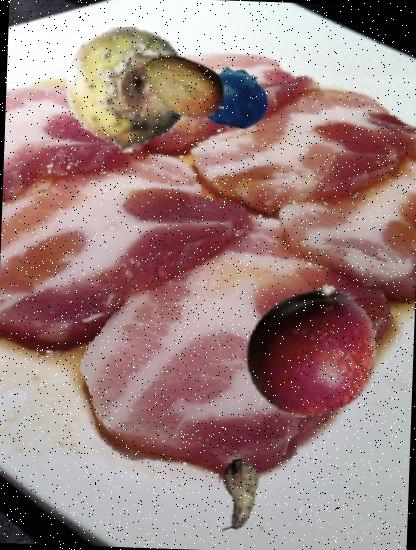Cactus: (61, 25, 195, 159)
Huckleberry: (198, 62, 271, 135)
Nectarine: (242, 282, 381, 421)
Papaya: (139, 40, 230, 132)
Pear: (202, 458, 275, 531)
